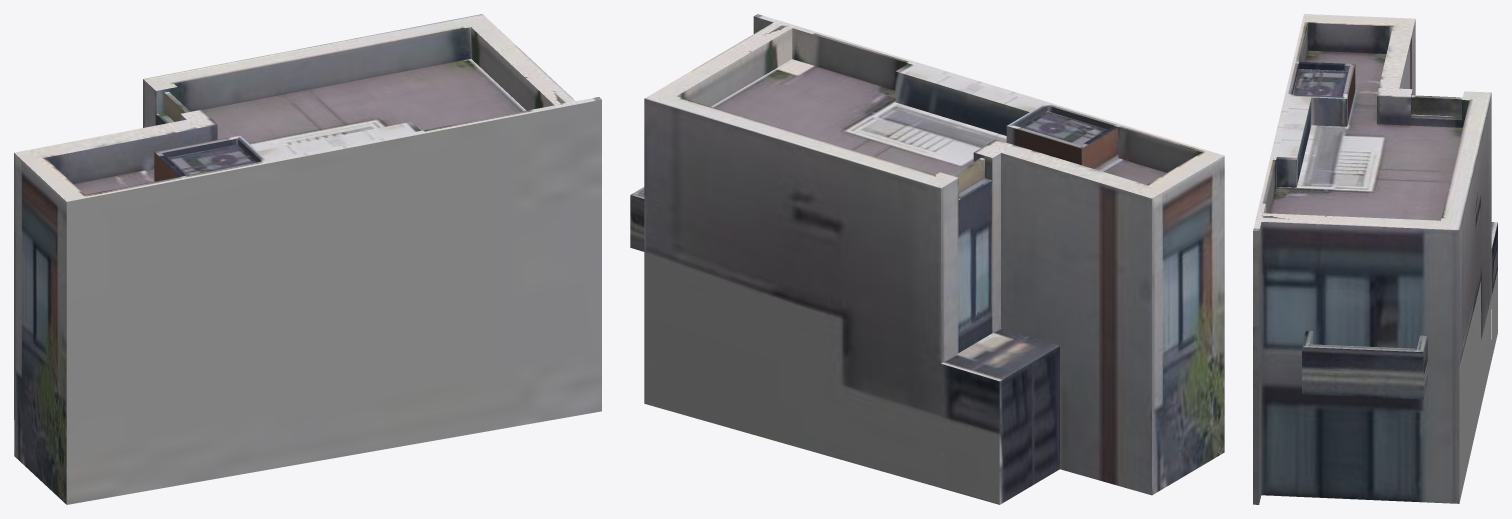
3 renders of one model, left to right at view 1: azimuth 30°, elevation 25°; view 2: azimuth 150°, elevation 25°; view 3: azimuth 270°, elevation 25°, orthographic. The views are drawn at different scales.
Parts seen in each view (by area): view 1: B286364034401062A0; view 2: B286364034401062A0; view 3: B286364034401062A0.
Part boxes in pixels (box(x1,y1,x2,y2)): B286364034401062A0: box(14, 14, 601, 504); B286364034401062A0: box(630, 14, 1224, 504); B286364034401062A0: box(1253, 14, 1497, 504).
Size of the model in its own units: 16.53 by 9.13 by 7.4.
Materials: 1 (1 with a texture image).
